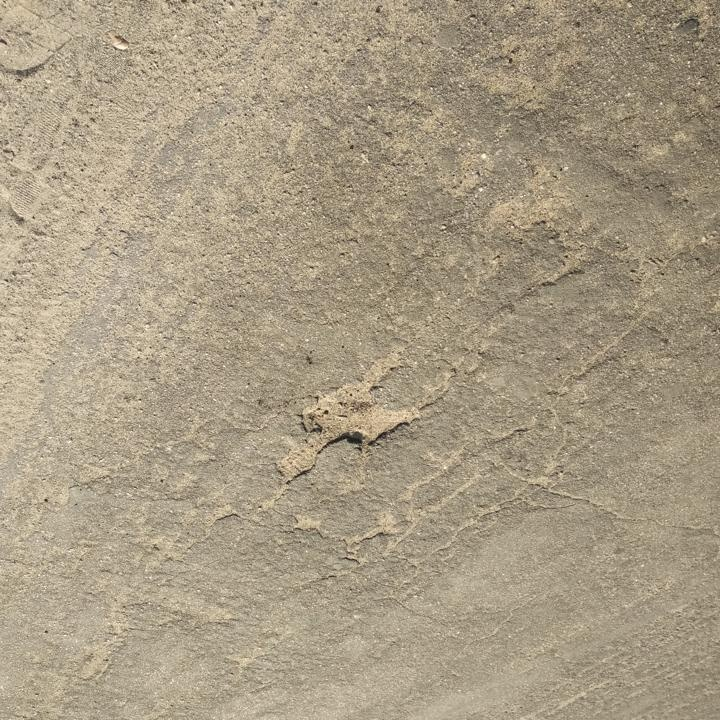pothole: (294, 379, 426, 450), (270, 450, 319, 486)
